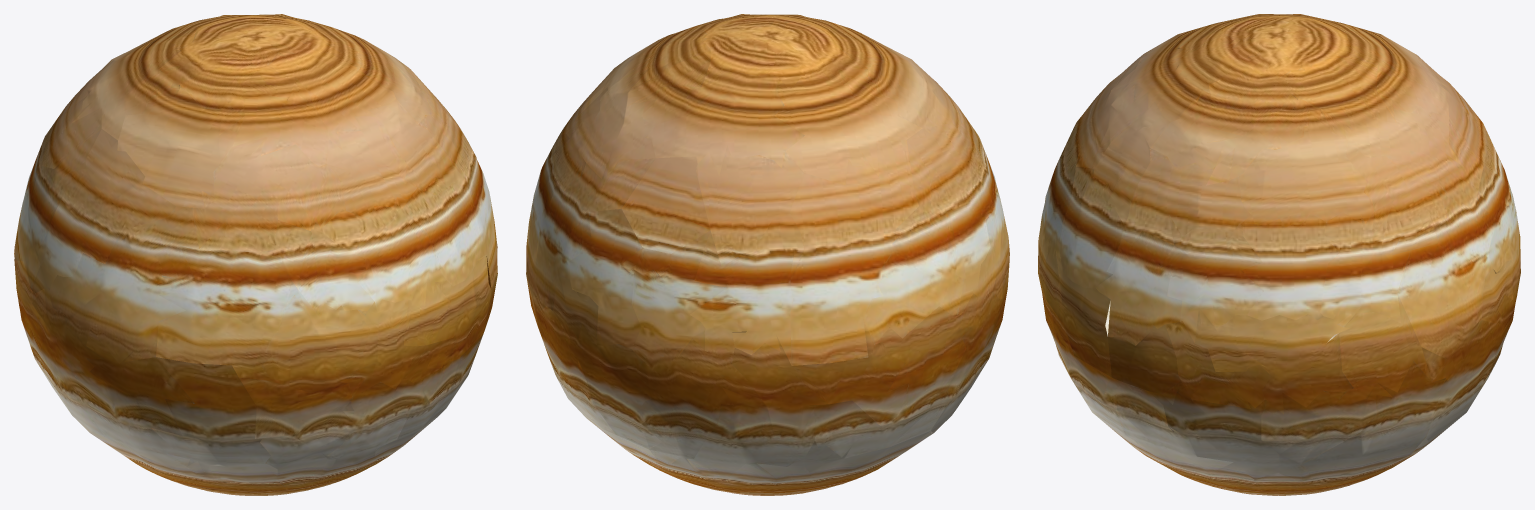
The model's file is solar-jupiter.glb.
3 renders of one model, left to right at view 1: azimuth 30°, elevation 25°; view 2: azimuth 150°, elevation 25°; view 3: azimuth 270°, elevation 25°, orthographic.
Size of the model in its own units: 1.78 by 1.76 by 1.78.
Materials: 1 (1 with a texture image).
